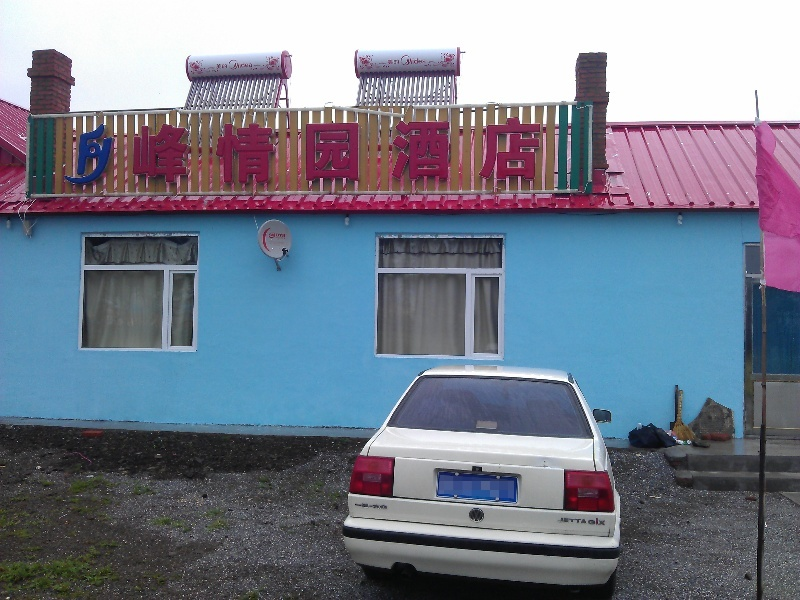text: (145, 115, 160, 186), (161, 115, 176, 186), (177, 115, 192, 186), (193, 115, 208, 186), (209, 115, 224, 186), (225, 115, 240, 186), (241, 115, 256, 186), (257, 115, 272, 186), (273, 115, 288, 186), (289, 115, 304, 186), (305, 115, 320, 186), (321, 115, 336, 186), (337, 115, 352, 186), (353, 115, 368, 186), (369, 115, 384, 186), (385, 115, 400, 186), (401, 115, 416, 186), (417, 115, 432, 186), (433, 115, 448, 186), (449, 115, 464, 186), (465, 115, 480, 186), (481, 115, 496, 186), (497, 115, 512, 186), (513, 115, 528, 186), (529, 115, 543, 186), (133, 115, 144, 186), (593, 517, 607, 526), (561, 517, 576, 525), (369, 503, 384, 511), (355, 503, 368, 511), (577, 517, 588, 525), (241, 62, 253, 69), (405, 58, 416, 65), (388, 59, 400, 65), (417, 58, 426, 65), (233, 62, 240, 69), (276, 234, 288, 238), (217, 64, 224, 70), (588, 517, 592, 526), (385, 503, 389, 511), (225, 64, 228, 70), (558, 517, 560, 525)
